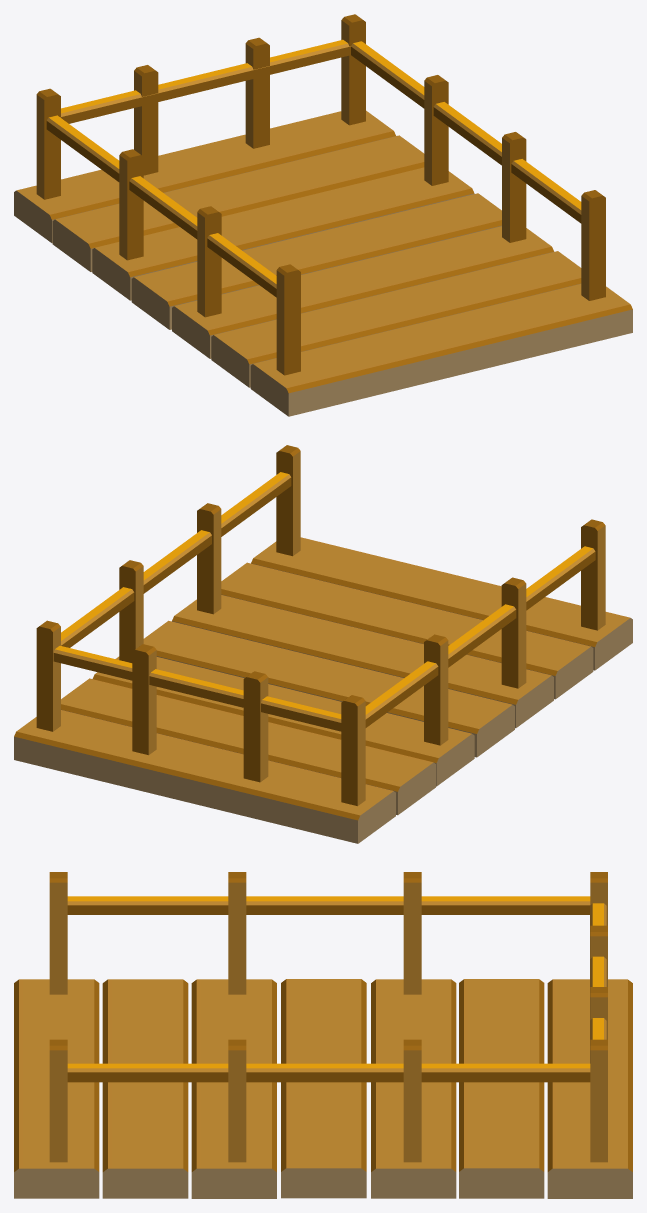
The model's file is bridge_start.fbx.
The picture shows the model from 3 angles, top to bottom: view 1: azimuth 30°, elevation 25°; view 2: azimuth 150°, elevation 25°; view 3: azimuth 270°, elevation 25°; orthographic projection. The views are drawn at different scales.
Parts seen in each view (by area): view 1: bridge_start; view 2: bridge_start; view 3: bridge_start.
Part boxes in pixels (x1,y1,x2,y2): bridge_start: (14, 14, 632, 416); bridge_start: (14, 445, 632, 843); bridge_start: (14, 872, 632, 1198).
Bounding box in the file's own units: 50.41 × 18.01 × 69.56.
